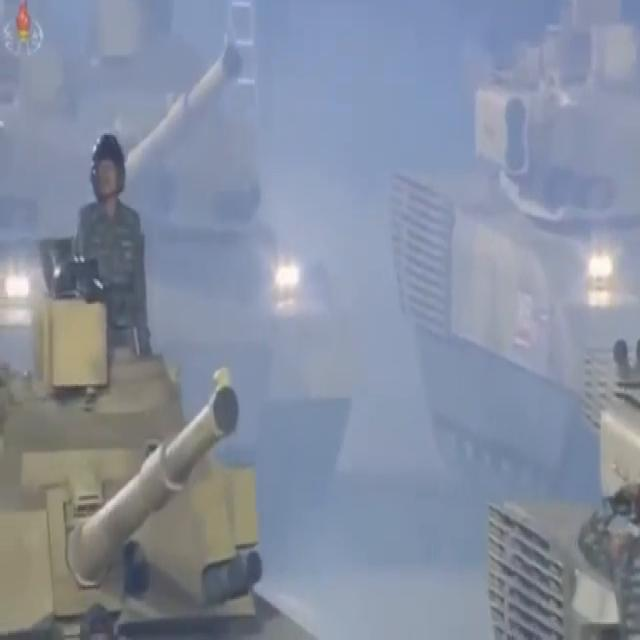north tank: (52, 3, 374, 518), (0, 240, 396, 640), (405, 8, 640, 486), (467, 318, 640, 640)
